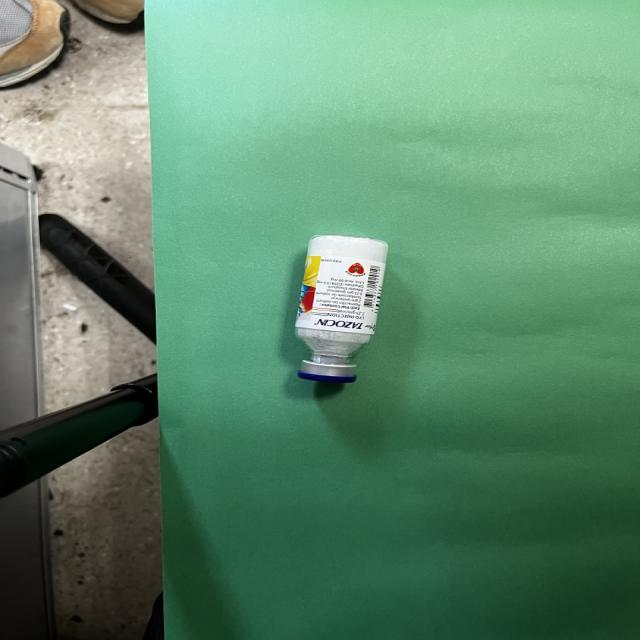Vials: (295, 235, 387, 382)
